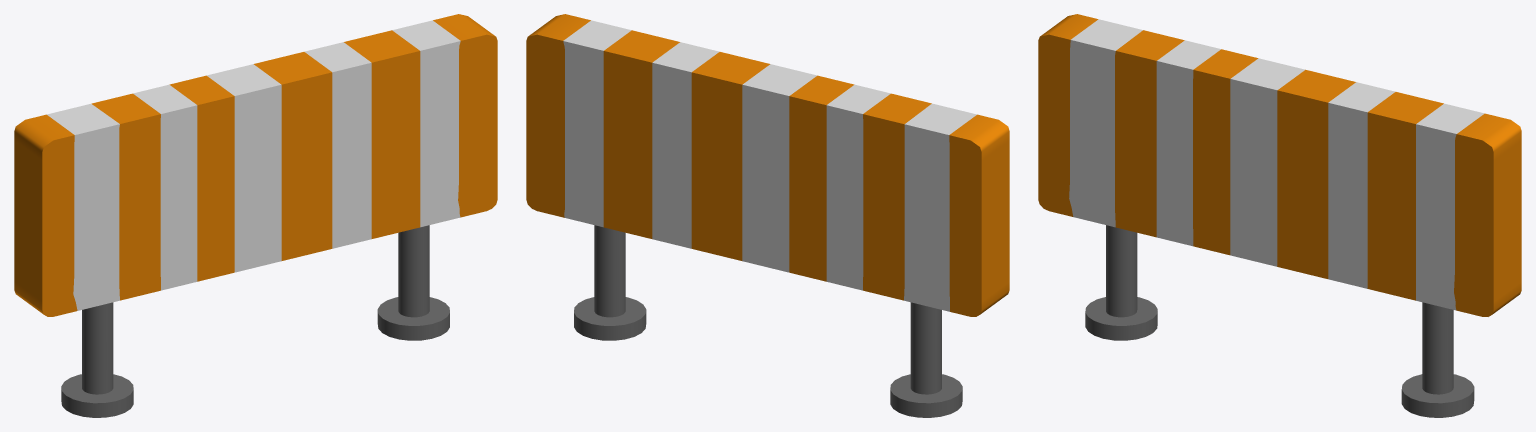
File: berrier2.fbx
The picture shows the model from 3 angles, left to right: view 1: azimuth 30°, elevation 25°; view 2: azimuth 150°, elevation 25°; view 3: azimuth 330°, elevation 25°; orthographic projection.
Parts seen in each view (by area): view 1: Main_Body, pCylinder1, pCylinder2, pCylinder4, pCylinder3; view 2: Main_Body, pCylinder1, pCylinder2, pCylinder4, pCylinder3; view 3: Main_Body, pCylinder2, pCylinder1, pCylinder4, pCylinder3.
Boxes of the visible parts, <box> form: Main_Body: <box>14,14,497,316</box>; pCylinder1: <box>82,302,113,394</box>; pCylinder2: <box>398,225,429,317</box>; pCylinder4: <box>377,297,449,340</box>; pCylinder3: <box>61,374,133,417</box>; Main_Body: <box>526,14,1009,316</box>; pCylinder1: <box>910,302,941,394</box>; pCylinder2: <box>594,225,625,317</box>; pCylinder4: <box>574,297,646,340</box>; pCylinder3: <box>890,374,962,417</box>; Main_Body: <box>1038,14,1521,316</box>; pCylinder2: <box>1422,302,1453,394</box>; pCylinder1: <box>1106,225,1137,317</box>; pCylinder4: <box>1401,374,1474,417</box>; pCylinder3: <box>1085,297,1157,340</box>.
Size of the model in its own units: 8.88 by 5.35 by 1.23.
